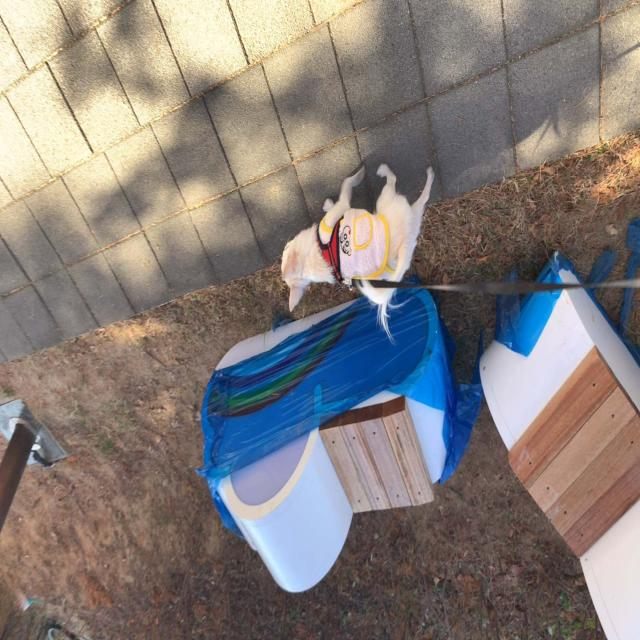Dog: (205, 293, 360, 478)
